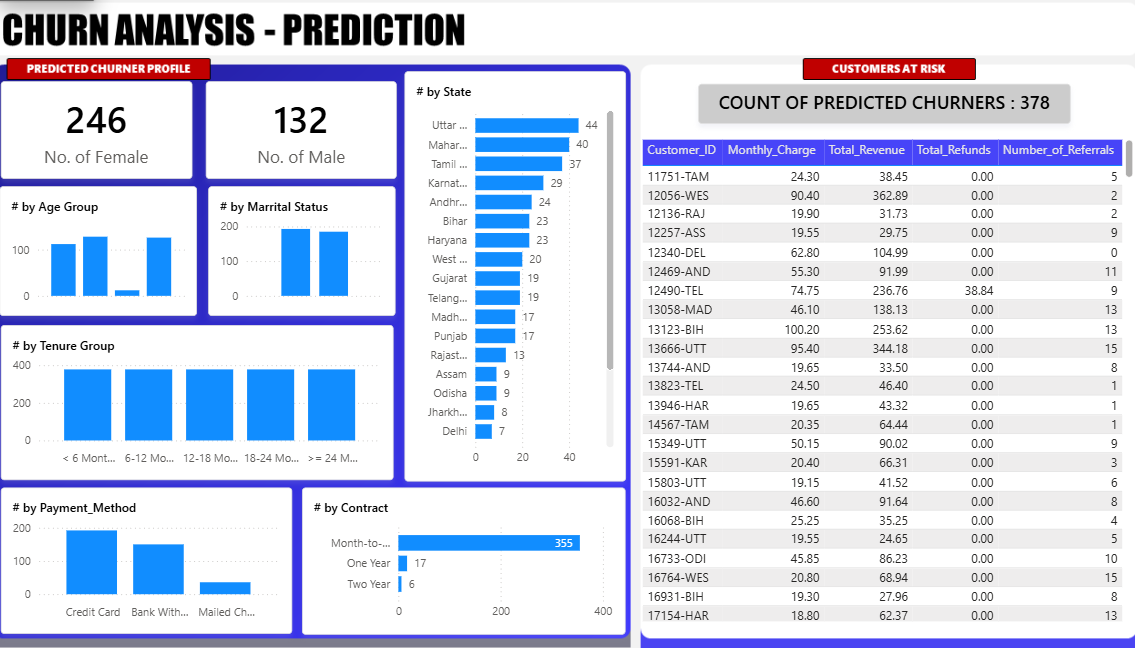

The dashboard page shown, as its layout file describes it:
{"tool":"powerbi","page":{"name":"Churn Prediction","canvas":[1280,720],"ordinal":2},"visuals":[{"type":"tableEx","fields":{"Values":["Predictions_Data.Customer_ID","Predictions_Data.Monthly_Charge","Predictions_Data.Total_Revenue","Predictions_Data.Total_Refunds","Predictions_Data.Number_of_Referrals"]},"box":[724.5,146.8,539.3,553],"z":0},{"type":"card","fields":{"Values":["tbl_Measures.Title Predicted Churners"]},"box":[786.3,97.4,408.9,43.9],"z":1000},{"type":"card","fields":{"Values":["tbl_Measures.Count Predicted Churner"]},"box":[20.6,94.7,210,107],"z":2000},{"type":"card","fields":{"Values":["tbl_Measures.Count Predicted Churner"]},"box":[245.6,94.7,209.9,107],"z":3000},{"type":"clusteredColumnChart","fields":{"Category":["mapping_AgeGrp.Age Group"],"Y":["CountNonNull(Predictions_Data.Customer_ID)"]},"box":[19.2,209.9,216.8,142.7],"z":4000},{"type":"clusteredColumnChart","fields":{"Category":["Predictions_Data.Married"],"Y":["CountNonNull(Predictions_Data.Customer_ID)"]},"box":[248.4,209.9,205.8,142.7],"z":5000},{"type":"clusteredColumnChart","fields":{"Y":["CountNonNull(Predictions_Data.Customer_ID)"],"Category":["mapping_TenureGrp.Tenure Group"]},"box":[20.6,362.3,430.9,170.2],"z":6000},{"type":"clusteredColumnChart","fields":{"Y":["CountNonNull(Predictions_Data.Customer_ID)"],"Category":["Predictions_Data.Payment_Method"]},"box":[20.6,540.7,319.7,160.5],"z":7000},{"type":"clusteredBarChart","fields":{"Category":["Predictions_Data.Contract"],"Y":["CountNonNull(Predictions_Data.Customer_ID)"]},"box":[351.3,540.7,355.4,161.9],"z":8000},{"type":"clusteredBarChart","fields":{"Y":["CountNonNull(Predictions_Data.Customer_ID)"],"Category":["Predictions_Data.State"]},"box":[463.8,83.7,242.9,450.1],"z":9000}]}

Visuals, with their boxes in screenshot pixels (x1, y1, x2, y2), scaled from the page's 1280x720 canvas onto the 1135x648 screenshot:
tableEx - Predictions_Data.Customer_ID x Predictions_Data.Monthly_Charge: (left=642, top=132, right=1121, bottom=630)
card - tbl_Measures.Title Predicted Churners: (left=697, top=88, right=1060, bottom=127)
card - tbl_Measures.Count Predicted Churner: (left=18, top=85, right=204, bottom=182)
card - tbl_Measures.Count Predicted Churner: (left=218, top=85, right=404, bottom=182)
clusteredColumnChart - mapping_AgeGrp.Age Group x CountNonNull(Predictions_Data.Customer_ID): (left=17, top=189, right=209, bottom=317)
clusteredColumnChart - Predictions_Data.Married x CountNonNull(Predictions_Data.Customer_ID): (left=220, top=189, right=403, bottom=317)
clusteredColumnChart - CountNonNull(Predictions_Data.Customer_ID) x mapping_TenureGrp.Tenure Group: (left=18, top=326, right=400, bottom=479)
clusteredColumnChart - CountNonNull(Predictions_Data.Customer_ID) x Predictions_Data.Payment_Method: (left=18, top=487, right=302, bottom=631)
clusteredBarChart - Predictions_Data.Contract x CountNonNull(Predictions_Data.Customer_ID): (left=312, top=487, right=627, bottom=632)
clusteredBarChart - CountNonNull(Predictions_Data.Customer_ID) x Predictions_Data.State: (left=411, top=75, right=627, bottom=480)
